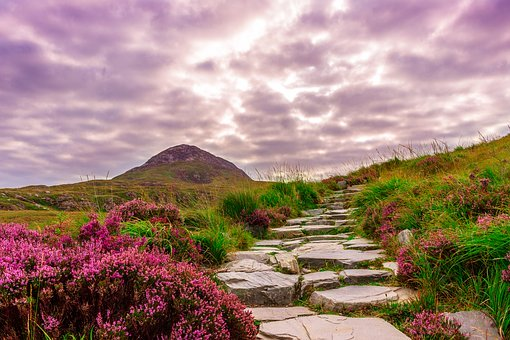field: (13, 181, 507, 340)
flower: (8, 208, 233, 337)
mountain: (54, 144, 275, 209)
sky: (4, 1, 510, 164)
